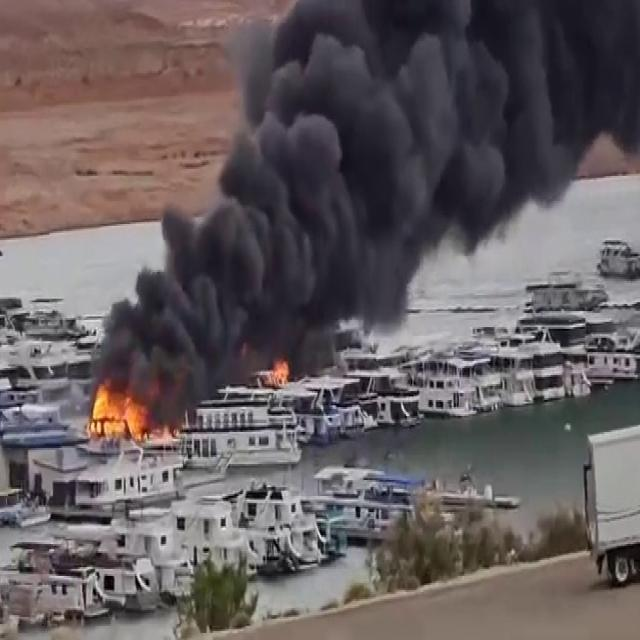Fire: (84, 376, 154, 444), (270, 352, 292, 386)
Smoke: (97, 1, 630, 390)
